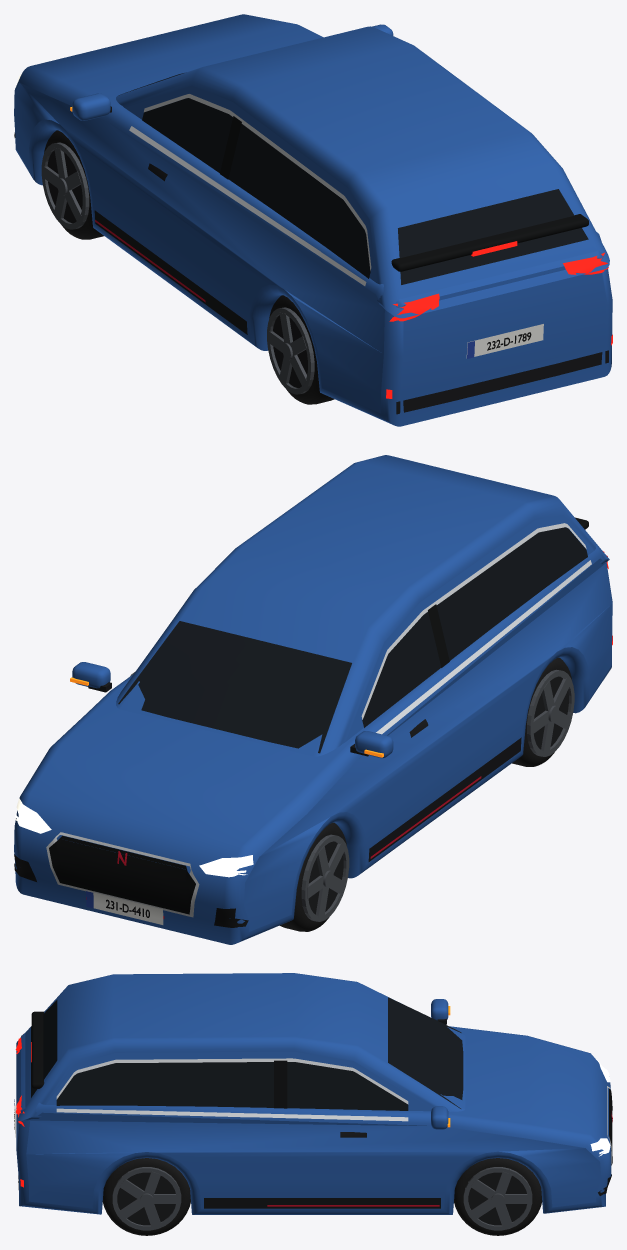
Rendered from hatch.glb.
The picture shows the model from 3 angles, top to bottom: view 1: azimuth 30°, elevation 25°; view 2: azimuth 150°, elevation 25°; view 3: azimuth 270°, elevation 25°; orthographic projection. The views are drawn at different scales.
Parts seen in each view (by area): view 1: body, cabin, side_glass_-1, rear_screen, wheel_rear_l, wheel_front_l, r_diffuser_0, roof_spoiler, skirt_-1, dlo_chrome_bot_-1, dlo_chrome_top_-1, plate_rear (+4 smaller); view 2: body, cabin, windscreen, side_glass_-1, grille_0, wheel_front_l, wheel_rear_l, skirt_-1, dlo_chrome_bot_-1, dlo_chrome_top_-1, grille_surround_0, plate_front (+3 smaller); view 3: body, cabin, side_glass_1, wheel_front_r, wheel_rear_r, windscreen, skirt_1, dlo_chrome_bot_1, dlo_chrome_top_1, rear_screen, roof_spoiler, pillar_-0.25_1 (+1 smaller).
Boxes of the visible parts, box(x1,y1,x2,y2) form: body: box(14, 14, 612, 426); cabin: box(116, 26, 609, 318); side_glass_-1: box(142, 98, 370, 278); rear_screen: box(398, 189, 588, 284); wheel_rear_l: box(267, 295, 334, 404); wheel_front_l: box(41, 130, 103, 239); r_diffuser_0: box(396, 350, 608, 414); roof_spoiler: box(391, 214, 588, 271); skirt_-1: box(94, 210, 247, 334); dlo_chrome_bot_-1: box(129, 126, 366, 285); dlo_chrome_top_-1: box(144, 94, 371, 270); plate_rear: box(466, 324, 543, 358); body: box(14, 545, 612, 944); cabin: box(116, 455, 609, 756); windscreen: box(118, 621, 351, 753); side_glass_-1: box(362, 527, 587, 727); grille_0: box(49, 835, 195, 914); wheel_front_l: box(279, 822, 349, 931); wheel_rear_l: box(512, 657, 574, 766); skirt_-1: box(368, 737, 521, 861); dlo_chrome_bot_-1: box(376, 560, 591, 734); dlo_chrome_top_-1: box(361, 523, 586, 719); grille_surround_0: box(46, 832, 199, 917); plate_front: box(86, 890, 163, 924); body: box(16, 1026, 611, 1214); cabin: box(16, 973, 465, 1121); side_glass_1: box(56, 1062, 408, 1110); wheel_front_r: box(454, 1158, 542, 1235); wheel_rear_r: box(102, 1158, 190, 1235); windscreen: box(388, 997, 463, 1108); skirt_1: box(204, 1198, 440, 1208); dlo_chrome_bot_1: box(56, 1108, 408, 1121); dlo_chrome_top_1: box(56, 1058, 408, 1104); rear_screen: box(31, 1000, 57, 1097); roof_spoiler: box(31, 1011, 44, 1088); pillar_-0.25_1: box(274, 1060, 287, 1108).
Size of the model in its own units: 2.14 by 1.54 by 4.52.
